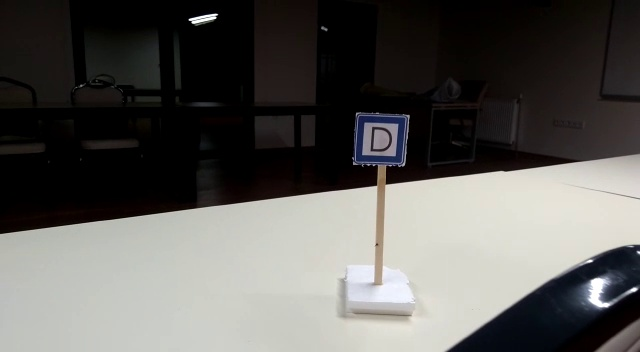durak: (351, 112, 411, 166)
